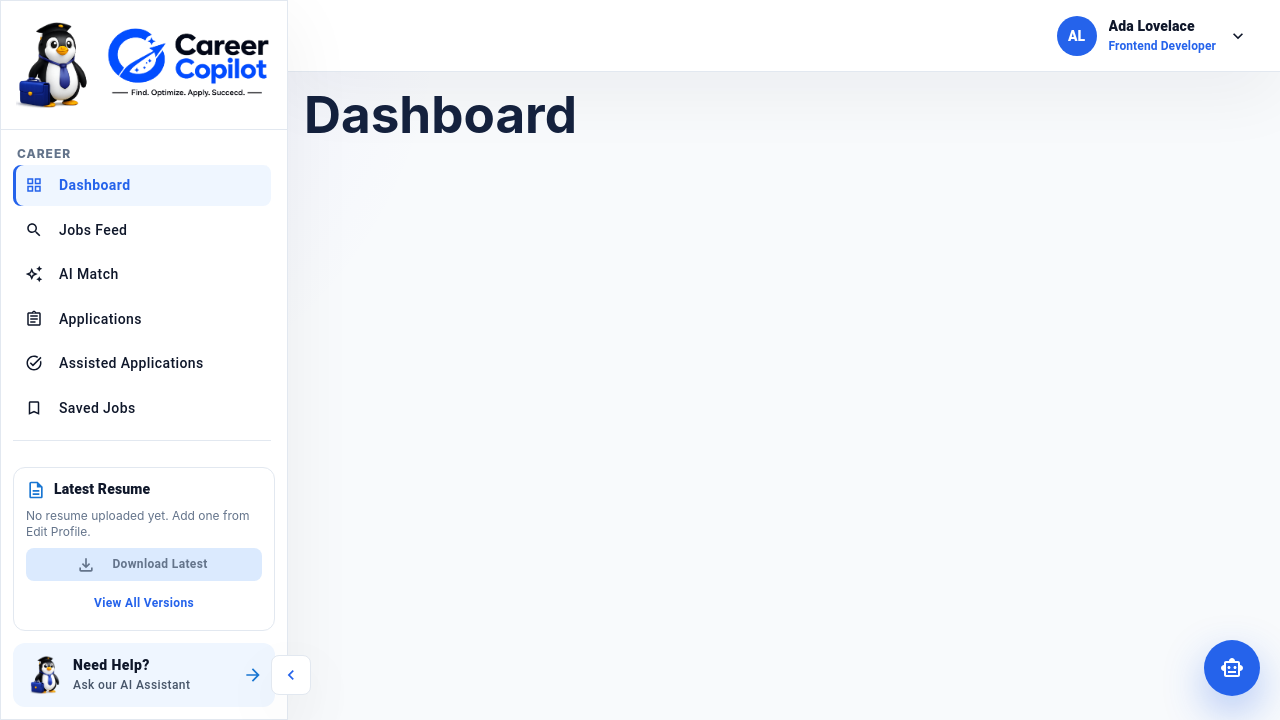
Test: AppLayout › settings and navigation › navigates to edit profile page when settings is clicked
The width and height of the screenshot is (1280, 720).
Click the button with aria-label "user menu": click(1152, 36) [1057,16,1248,56]
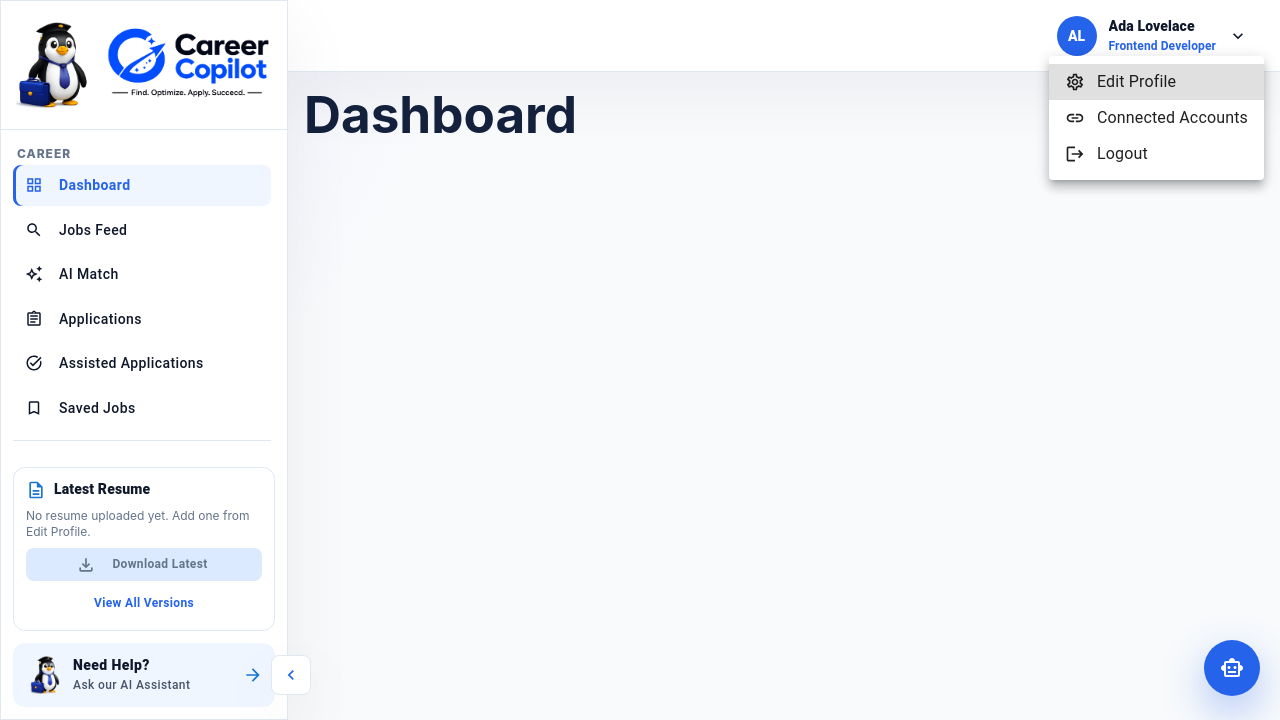
Click the menu item "Edit Profile": click(1156, 82) [1049,64,1264,100]
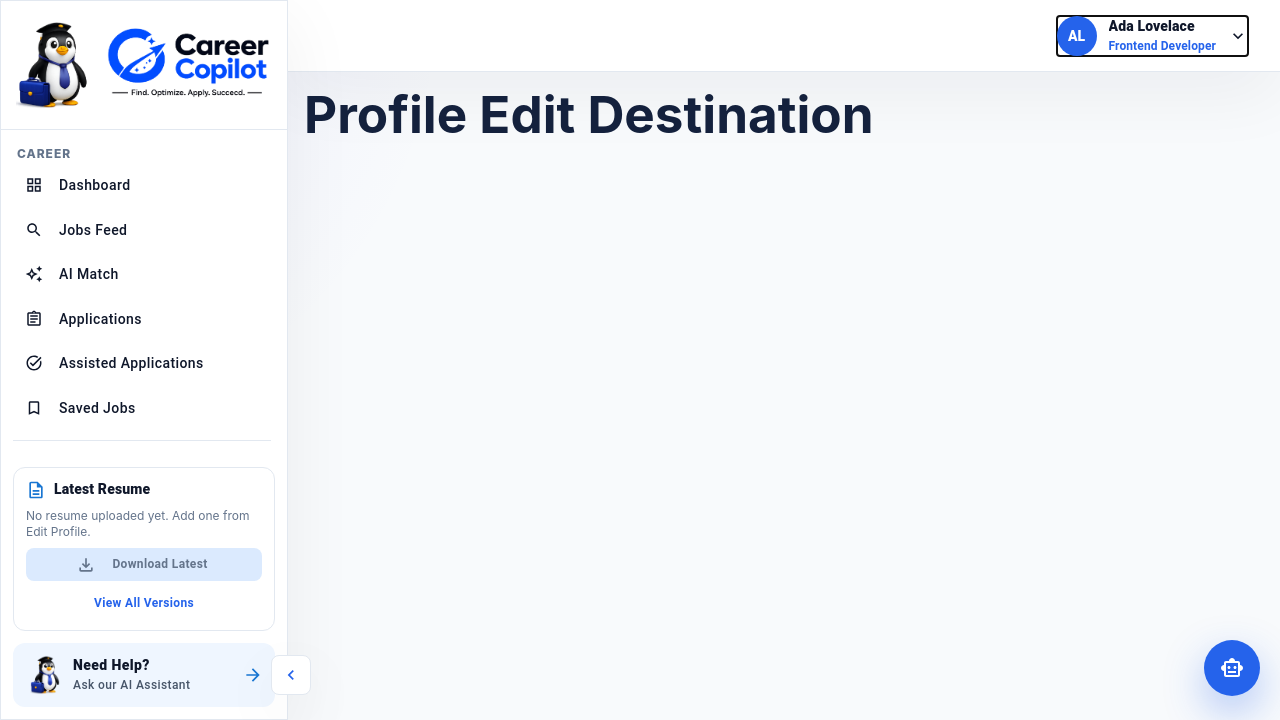
Expected: the heading "Profile Edit Destination" is shown, [304,83,874,145]
